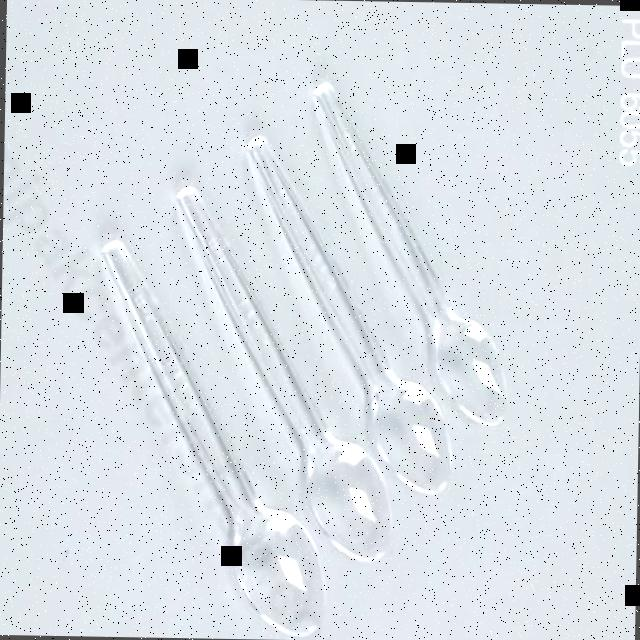plastic_box: (88, 81, 513, 640)
